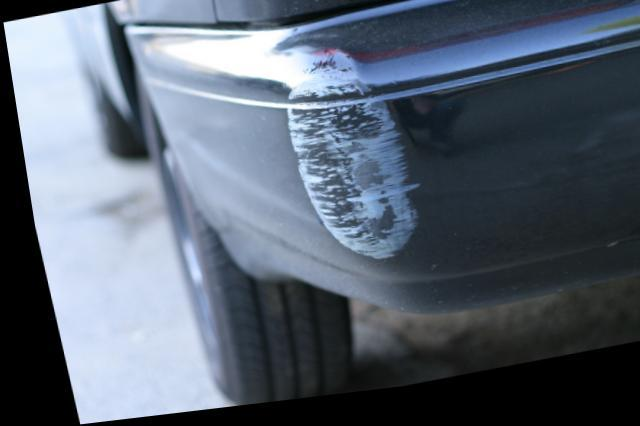scratch: (279, 55, 413, 269)
